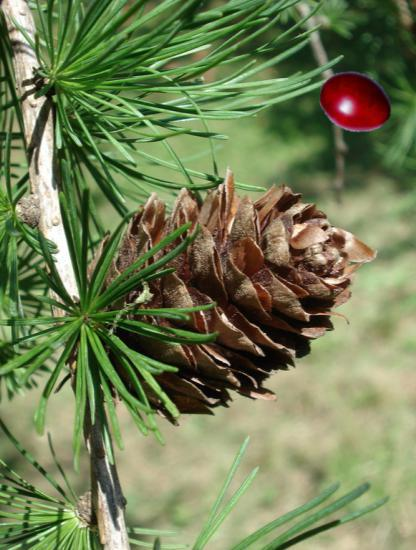Tamarillo: (311, 59, 394, 142)
